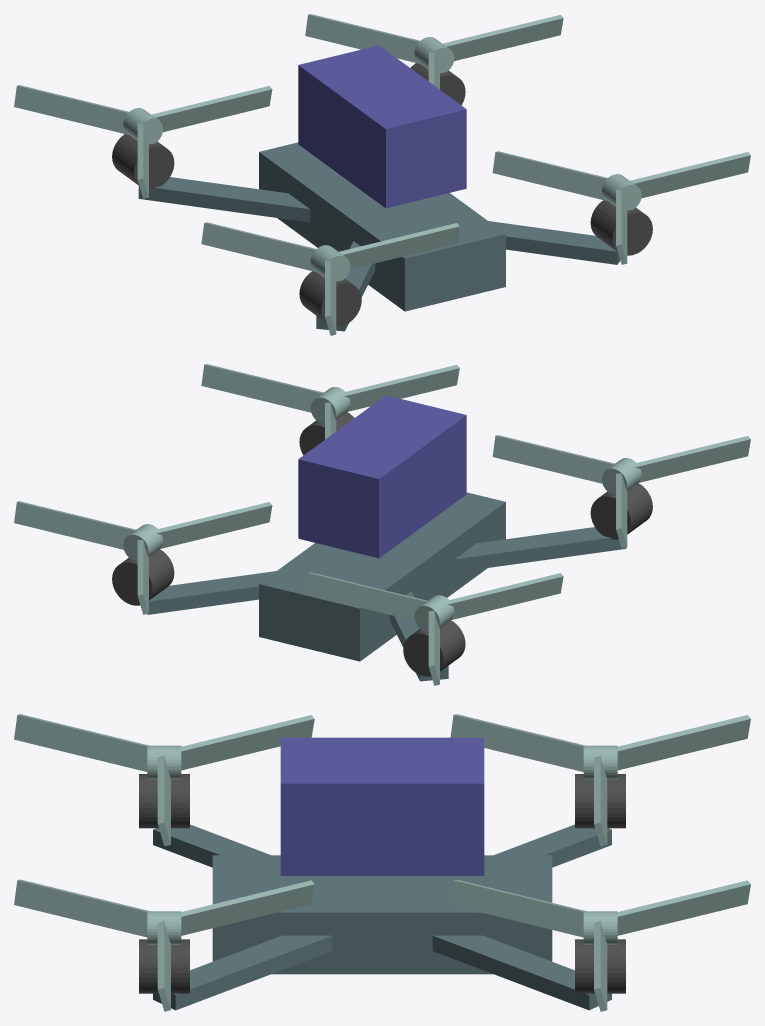
The model's file is Junior Racer.glb.
3 views of the same model, one above another, from view 1: azimuth 30°, elevation 25°; view 2: azimuth 150°, elevation 25°; view 3: azimuth 270°, elevation 25° (orthographic). The views are drawn at different scales.
Parts seen in each view (by area): view 1: battery, frame_body, prop_2, prop_0, prop_3, prop_1, arm_3, arm_0, motor_2, motor_0, motor_3, arm_2 (+1 smaller); view 2: battery, frame_body, prop_2, prop_1, prop_3, prop_0, arm_2, arm_1, motor_3, motor_2, motor_1, motor_0 (+1 smaller); view 3: battery, frame_body, prop_1, prop_0, prop_2, prop_3, arm_1, arm_0, arm_3, arm_2, motor_2, motor_3 (+2 smaller).
Boxes of the visible parts, x1,y1,x2,y2 form: battery: (298, 45, 466, 208); frame_body: (259, 142, 505, 311); prop_2: (201, 222, 459, 335); prop_0: (492, 151, 750, 264); prop_3: (14, 85, 272, 198); prop_1: (305, 14, 563, 89); arm_3: (138, 177, 310, 222); arm_0: (488, 221, 620, 264); motor_2: (299, 271, 361, 326); motor_0: (590, 200, 652, 255); motor_3: (112, 134, 174, 189); arm_2: (316, 241, 375, 331); battery: (298, 395, 466, 558); frame_body: (259, 492, 505, 661); prop_2: (492, 435, 750, 548); prop_1: (14, 501, 272, 614); prop_3: (305, 572, 563, 685); prop_0: (201, 364, 459, 439); arm_2: (454, 527, 626, 572); arm_1: (147, 571, 276, 614); motor_3: (403, 620, 465, 676); motor_2: (590, 483, 652, 539); motor_1: (112, 549, 174, 605); motor_0: (299, 412, 354, 455); battery: (280, 737, 484, 875); frame_body: (212, 855, 552, 974); prop_1: (450, 879, 750, 1011); prop_0: (14, 879, 314, 1011); prop_2: (14, 714, 314, 846); prop_3: (450, 714, 750, 846); arm_1: (432, 935, 611, 1010); arm_0: (153, 935, 332, 1010); arm_3: (494, 824, 611, 867); arm_2: (153, 824, 270, 867); motor_2: (139, 774, 189, 828); motor_3: (575, 774, 625, 828).
Bounding box in the file's own units: 0.1919 × 0.06 × 0.2169.
